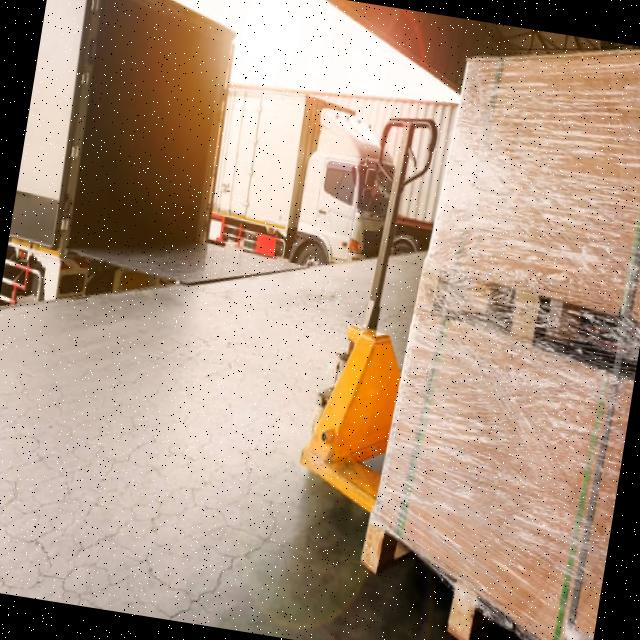Wooden-Pallets: (357, 508, 582, 640)
